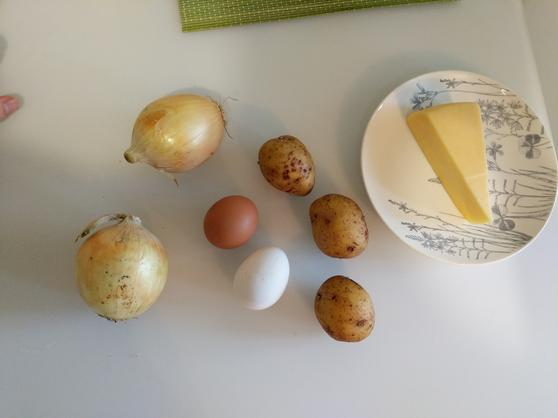cheese: (403, 102, 490, 227)
egg: (234, 247, 290, 312), (204, 194, 260, 250)
onion: (77, 212, 168, 323), (121, 93, 231, 175)
potato: (315, 276, 377, 341), (313, 193, 370, 259), (260, 134, 315, 195)
